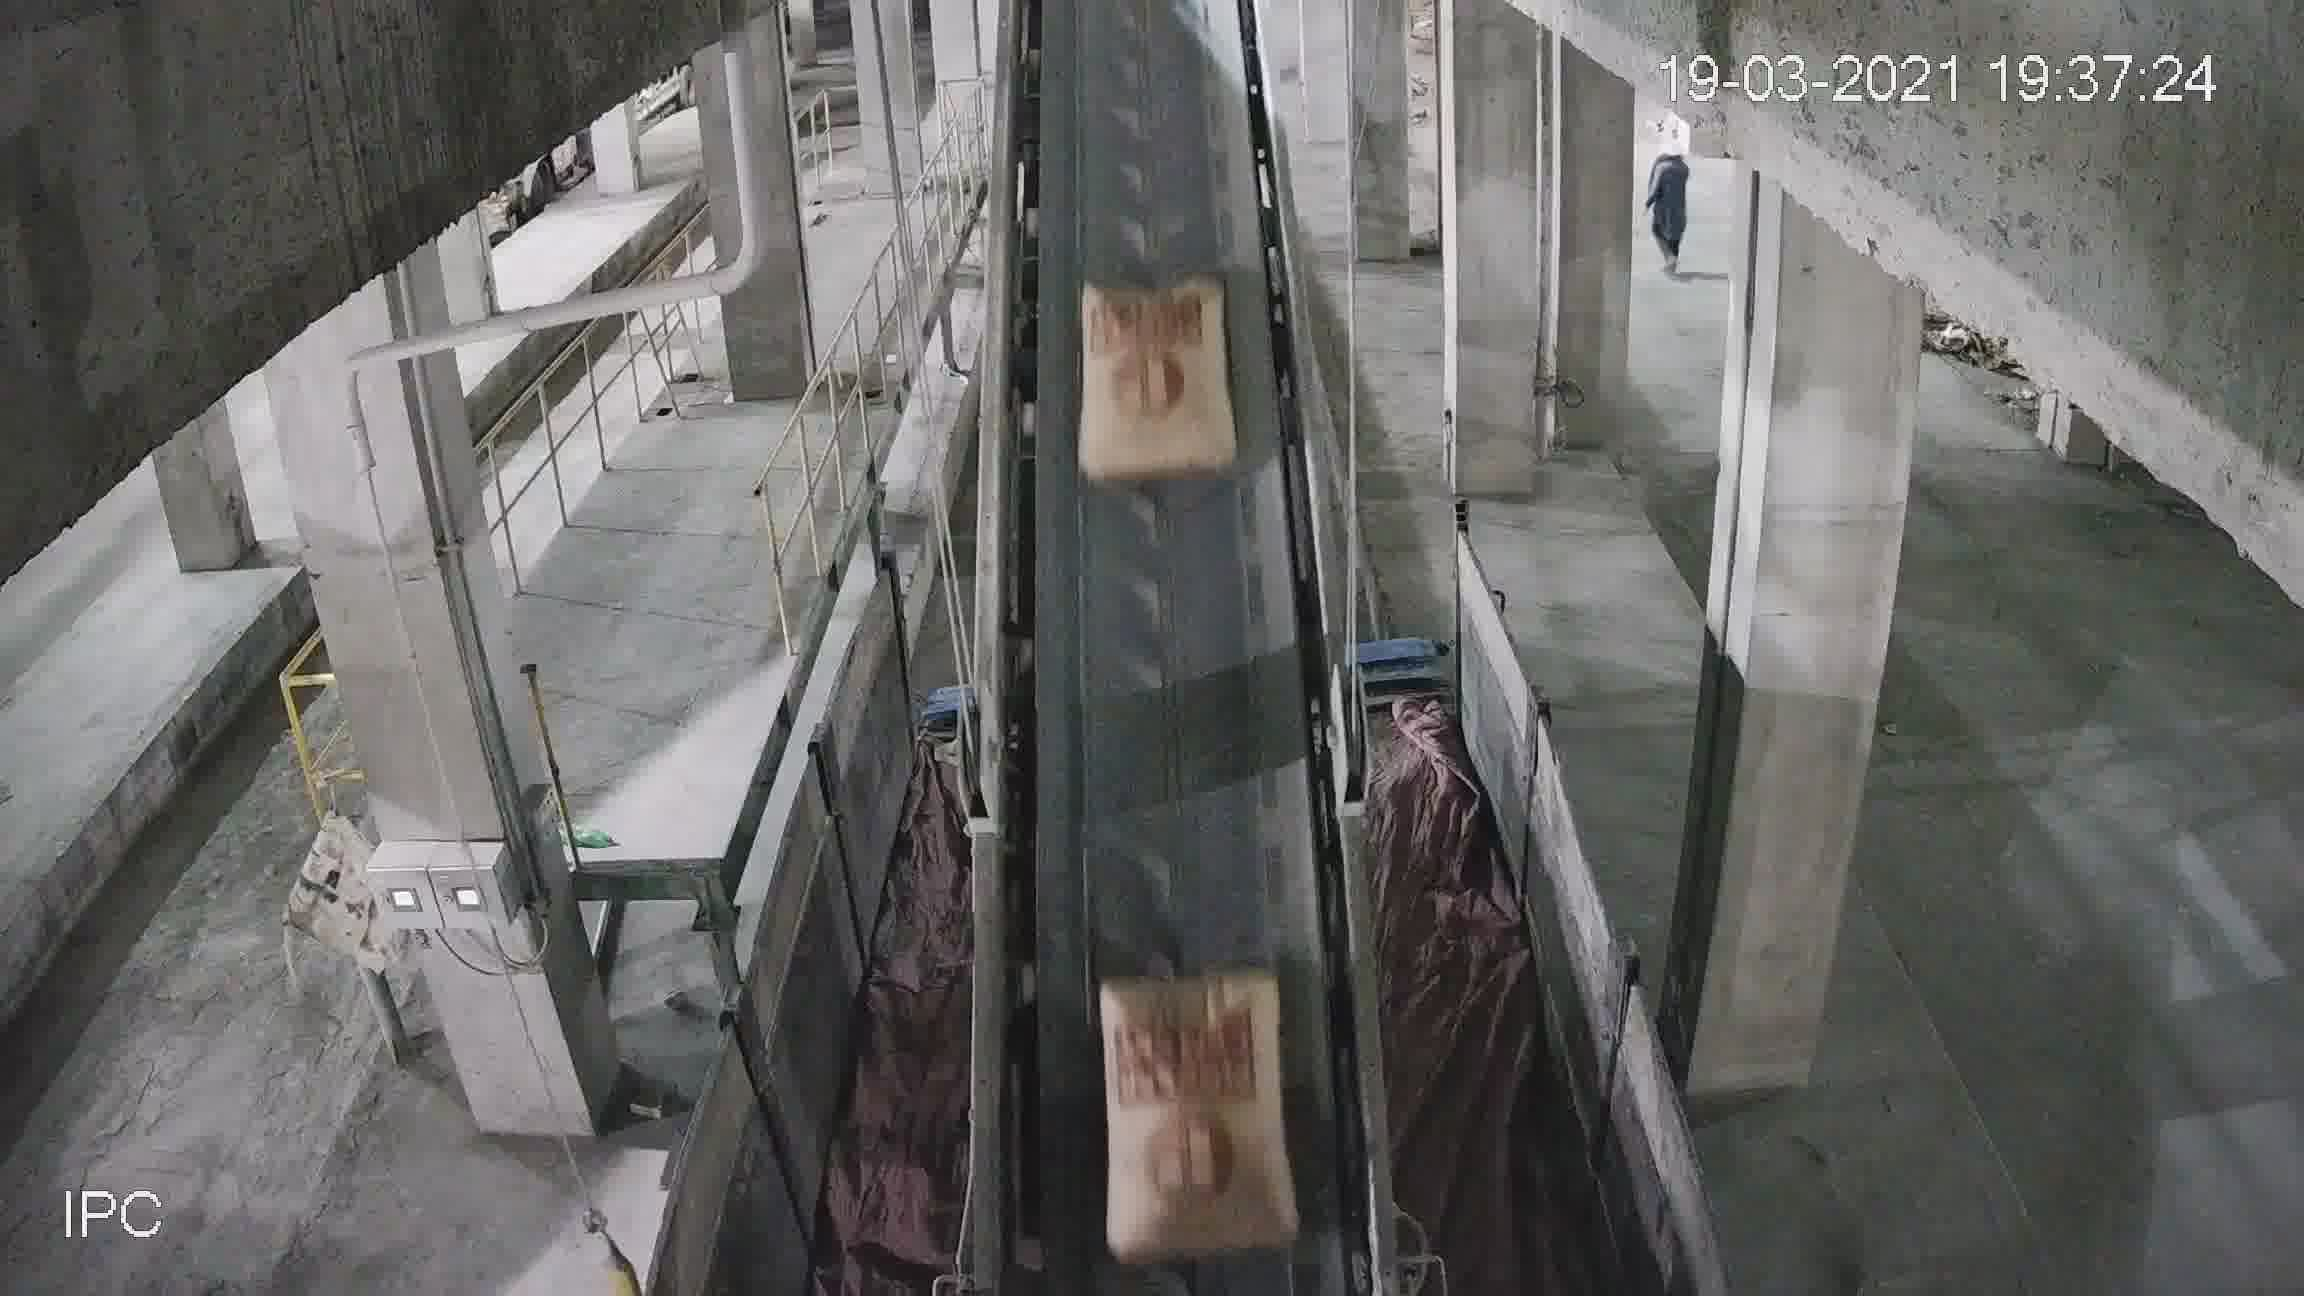bag: (1103, 976, 1277, 1187), (1079, 294, 1225, 479)
belt: (987, 44, 1372, 1120)
